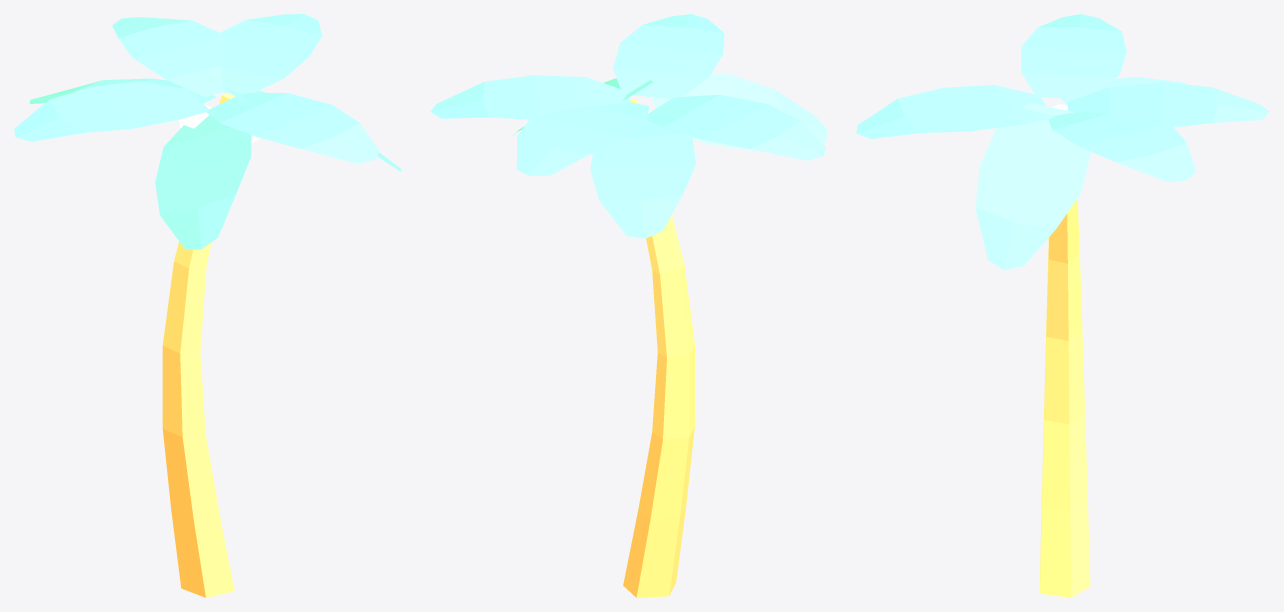
Rendered from yazishu.fbx.
The picture shows the model from 3 angles, left to right: view 1: azimuth 30°, elevation 25°; view 2: azimuth 150°, elevation 25°; view 3: azimuth 270°, elevation 25°; orthographic projection.
Visible parts, largest first — view 1: 柱体; view 2: 柱体; view 3: 柱体.
Part boxes in pixels (<box>): 柱体: <box>14,14,401,597</box>; 柱体: <box>431,14,827,597</box>; 柱体: <box>856,14,1269,597</box>.
Bounding box in the file's own units: 1421 × 1939 × 1474.
